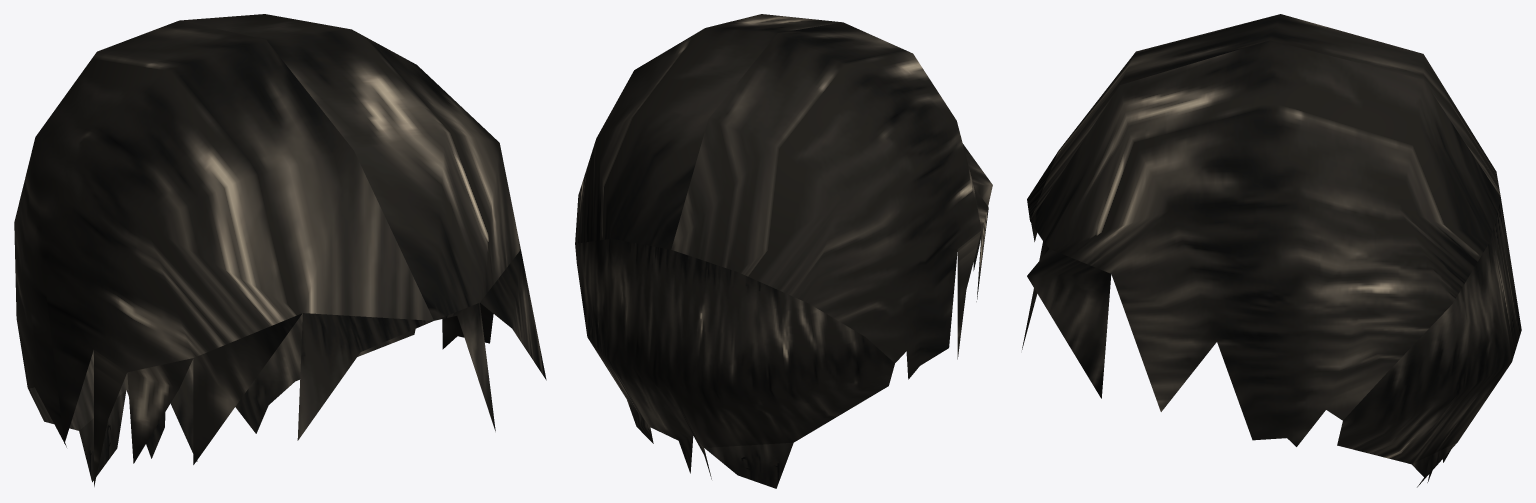
File: hair man 1.FBX
The picture shows the model from 3 angles, left to right: view 1: azimuth 30°, elevation 25°; view 2: azimuth 150°, elevation 25°; view 3: azimuth 270°, elevation 25°; orthographic projection. The views are drawn at different scales.
Parts seen in each view (by area): view 1: Hair man 1; view 2: Hair man 1; view 3: Hair man 1.
Boxes of the visible parts, box(x1,y1,x2,y2) form: Hair man 1: box(14, 14, 546, 486); Hair man 1: box(575, 14, 992, 488); Hair man 1: box(1022, 14, 1521, 487).
Size of the model in its own units: 39.85 by 44.46 by 46.36.
